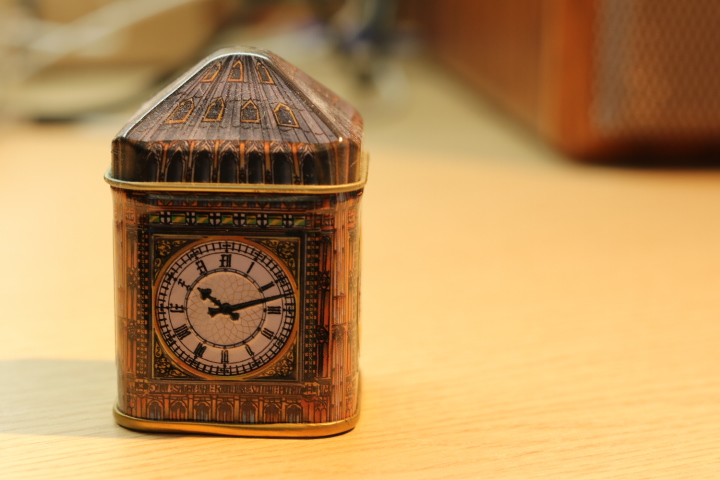Big Ben: (95, 37, 400, 458)
